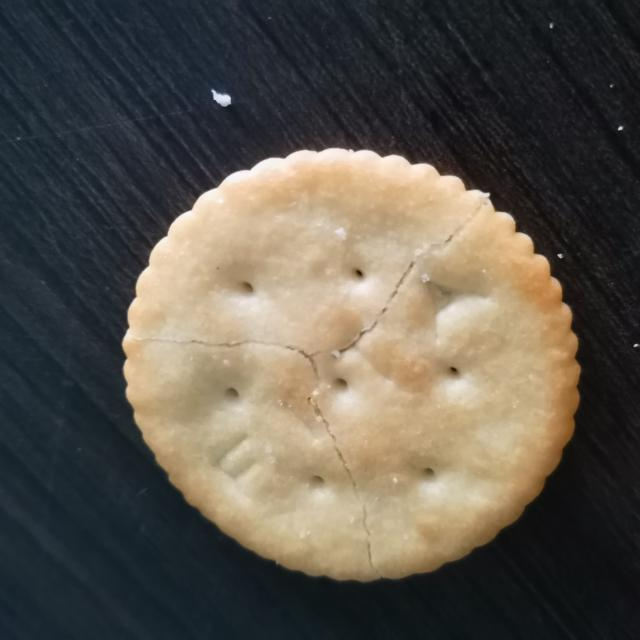Fracture: (120, 195, 478, 581)
